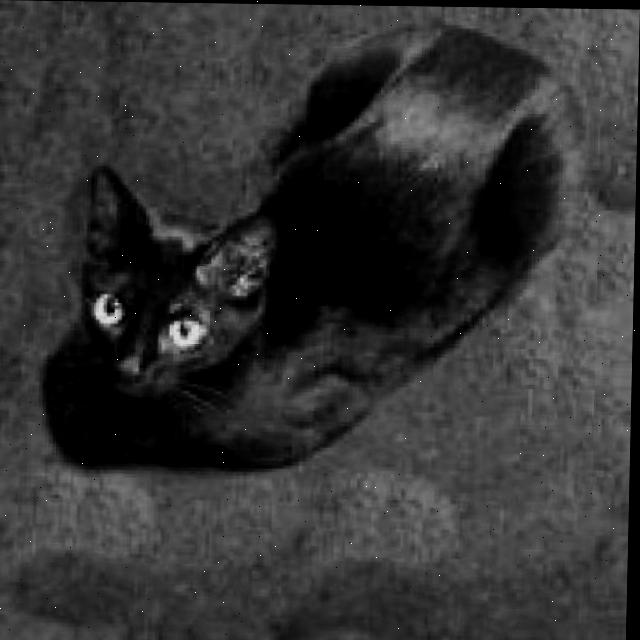Cat: (37, 11, 581, 476)
